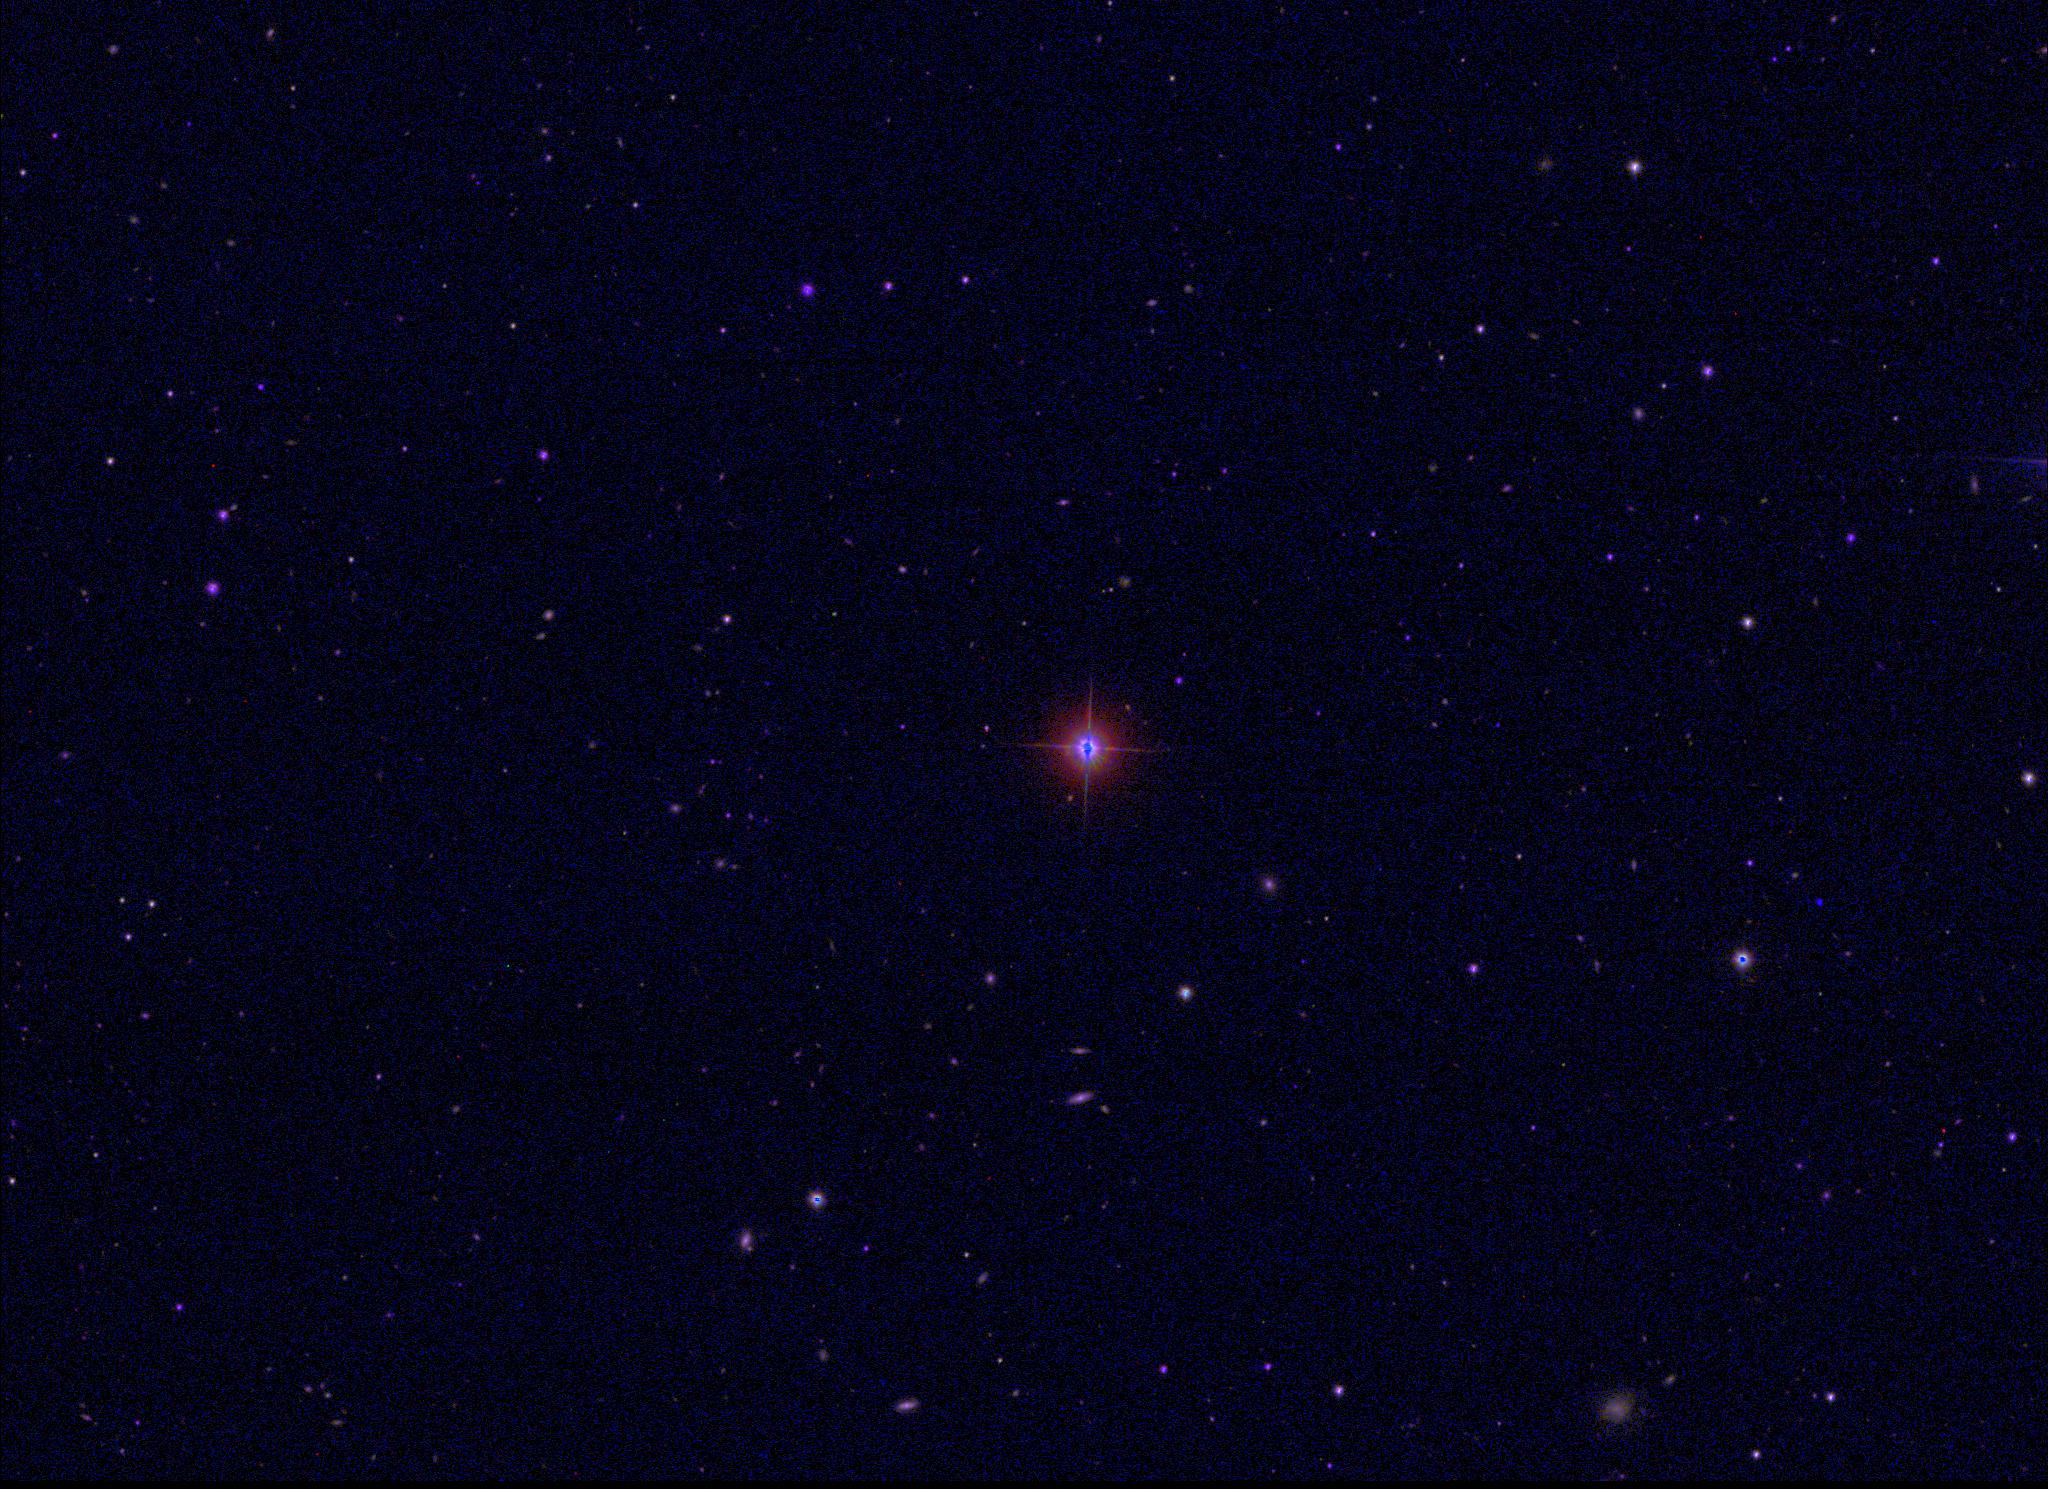L: (1808, 897, 1822, 912)
